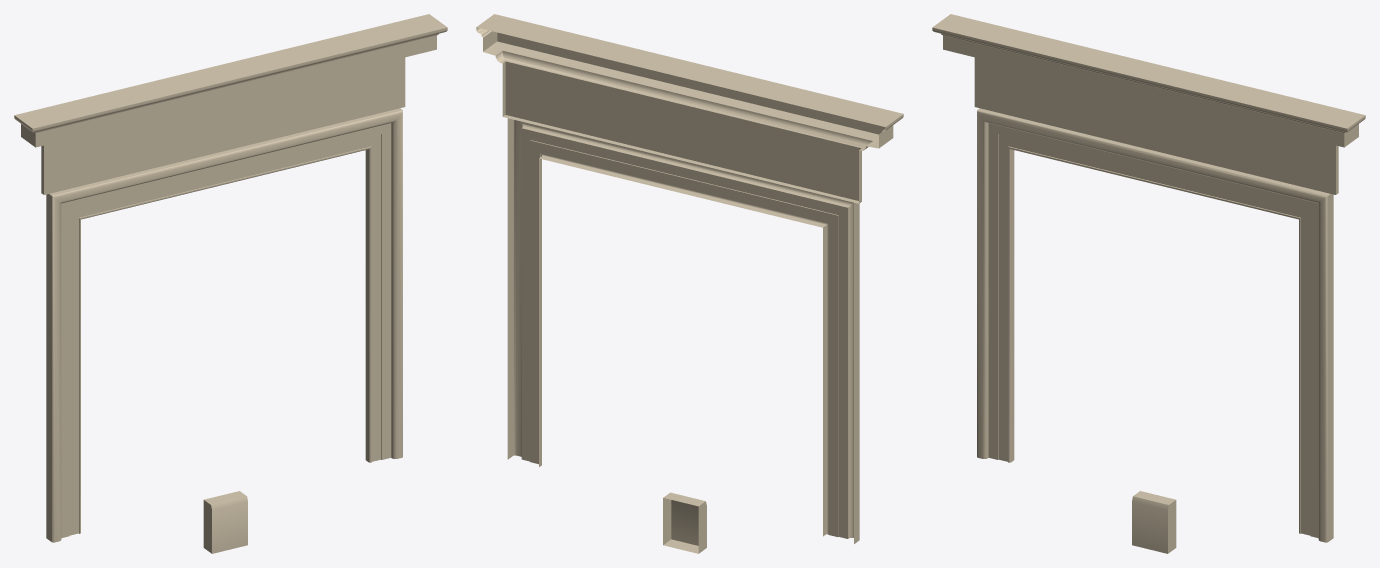
Rendered from chambranle.glb.
3 renders of one model, left to right at view 1: azimuth 30°, elevation 25°; view 2: azimuth 150°, elevation 25°; view 3: azimuth 330°, elevation 25°, orthographic.
Parts seen in each view (by area): view 1: Chambranle, Entablement, Plinthe; view 2: Entablement, Chambranle, Plinthe; view 3: Chambranle, Entablement, Plinthe.
Boxes of the visible parts, bbox=[...] form: Chambranle: bbox=[46, 108, 402, 542]; Entablement: bbox=[14, 14, 447, 194]; Plinthe: bbox=[203, 491, 247, 553]; Entablement: bbox=[476, 14, 903, 203]; Chambranle: bbox=[507, 116, 859, 543]; Plinthe: bbox=[663, 492, 706, 553]; Chambranle: bbox=[977, 108, 1333, 542]; Entablement: bbox=[932, 14, 1365, 194]; Plinthe: bbox=[1132, 491, 1176, 553].
Size of the model in its own units: 2.88 by 3.18 by 0.222.
